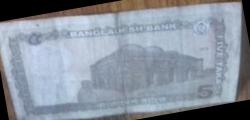5 taka: (7, 18, 234, 116)
